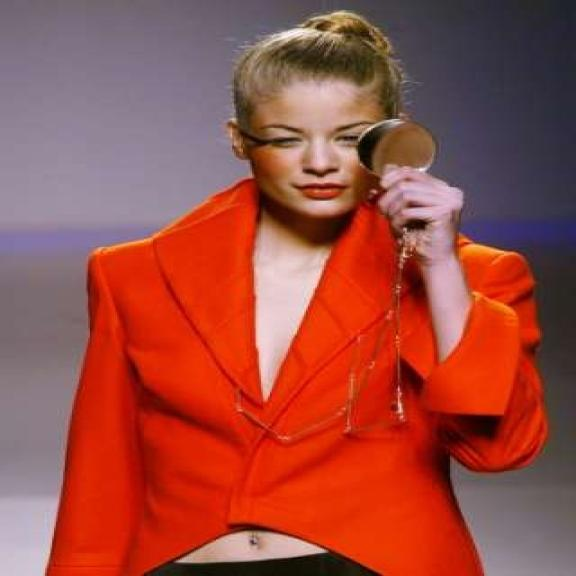face: (228, 76, 400, 222)
